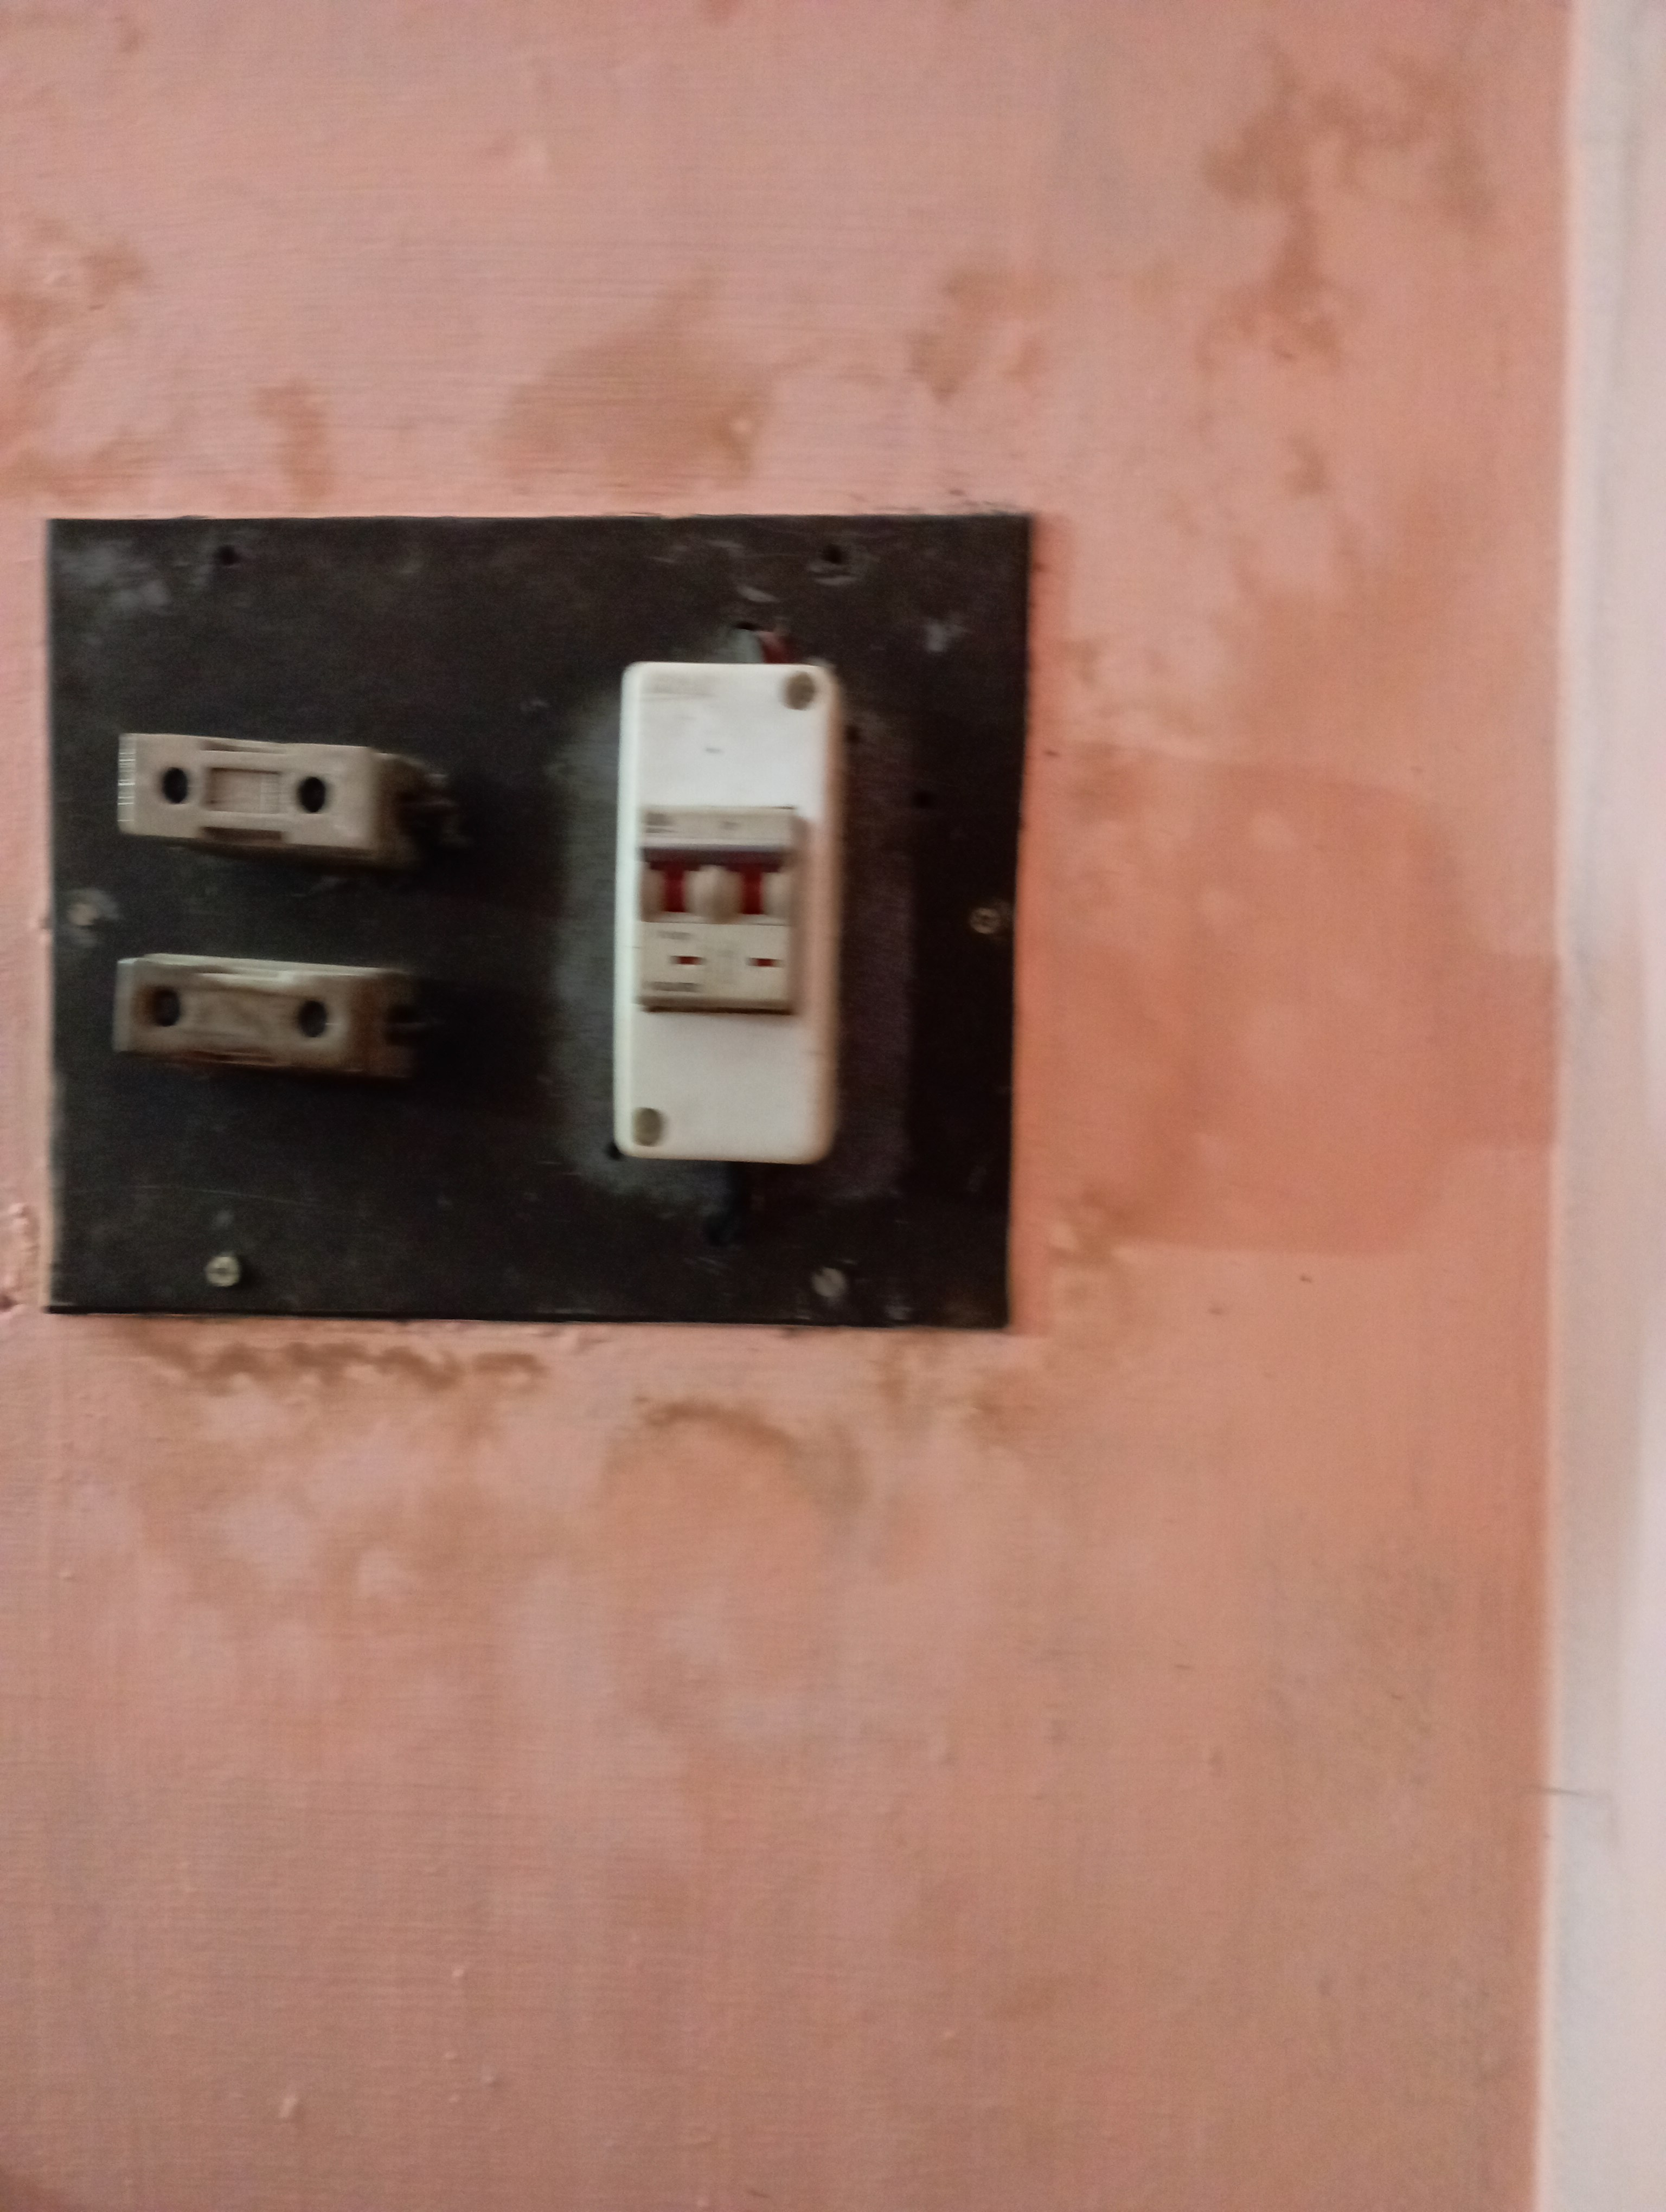ciruit_breaker: (583, 626, 868, 1180)
fuse: (102, 943, 418, 1098), (110, 727, 415, 876)
